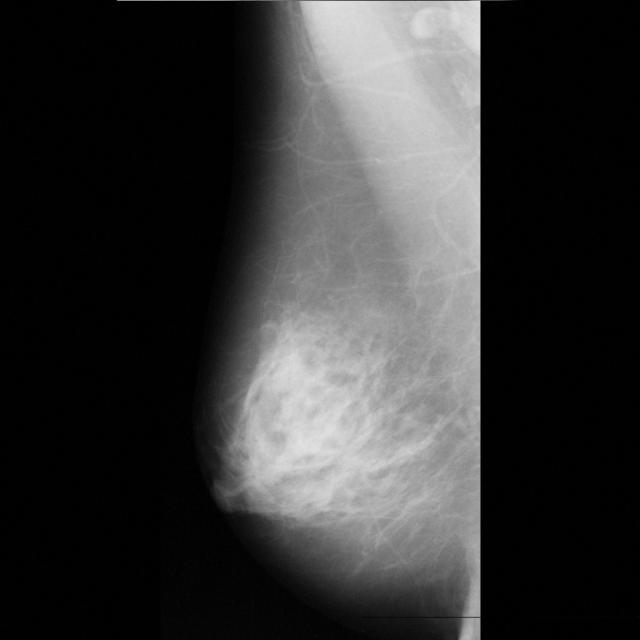CALC: (417, 428, 433, 444)
